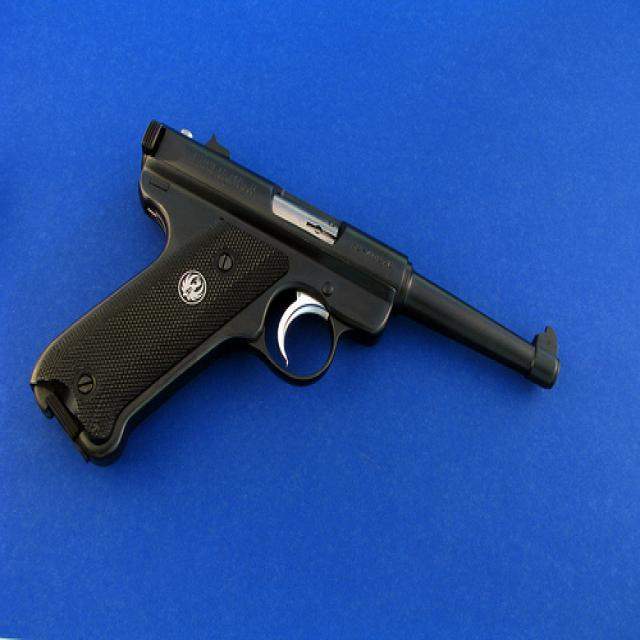weapon: (28, 114, 561, 471)
